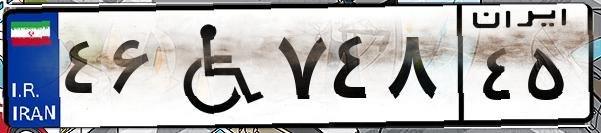4: (330, 28, 385, 110), (57, 26, 110, 100), (475, 38, 525, 113)
5: (525, 38, 570, 115)
6: (110, 28, 158, 98)
7: (270, 28, 330, 110)
8: (385, 28, 445, 110)
ژ (معلولین و جانبازان): (158, 12, 270, 120)
